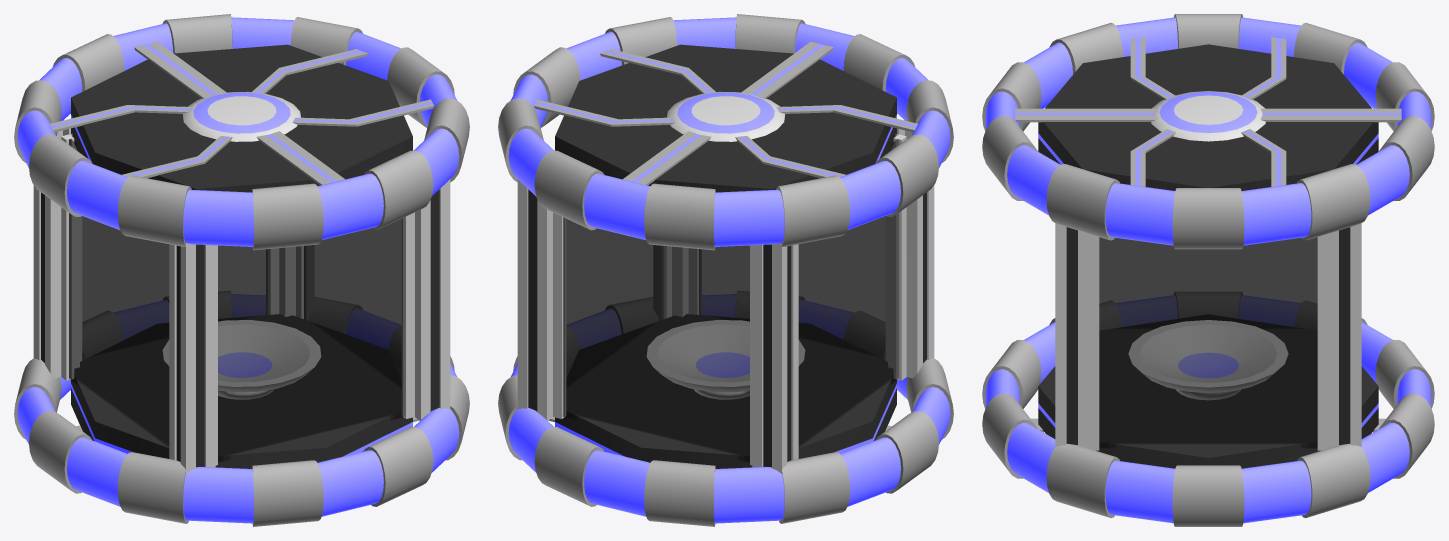
File: share box ver3.fbx
The picture shows the model from 3 angles, left to right: view 1: azimuth 30°, elevation 25°; view 2: azimuth 150°, elevation 25°; view 3: azimuth 270°, elevation 25°; orthographic projection.
Visible parts, largest first — view 1: main_ita, pTorus1, glass1, pTorus2, glass4, glass3, glass2, hashira1, hashira2, hashira4, sara2, kazari24 (+6 smaller); view 2: main_ita, pTorus1, glass3, pTorus2, glass4, glass1, glass2, hashira4, hashira3, hashira1, sara2, kazari24 (+6 smaller); view 3: main_ita, pTorus1, glass2, pTorus2, glass4, hashira2, hashira3, sara2, kazari24, kazari19, kazari32, kazari34 (+2 smaller).
Boxes of the visible parts, x1=… form: main_ita: x1=71, y1=44, x2=412, y2=468; pTorus1: x1=14, y1=14, x2=469, y2=250; glass1: x1=218, y1=217, x2=404, y2=462; pTorus2: x1=14, y1=291, x2=469, y2=526; glass4: x1=69, y1=139, x2=169, y2=446; glass3: x1=82, y1=216, x2=268, y2=359; glass2: x1=304, y1=219, x2=401, y2=386; hashira1: x1=169, y1=243, x2=217, y2=473; hashira2: x1=401, y1=179, x2=450, y2=420; hashira4: x1=33, y1=119, x2=82, y2=380; sara2: x1=162, y1=320, x2=321, y2=399; kazari24: x1=182, y1=91, x2=300, y2=141; main_ita: x1=555, y1=44, x2=896, y2=468; pTorus1: x1=498, y1=14, x2=953, y2=250; glass3: x1=563, y1=217, x2=749, y2=462; pTorus2: x1=498, y1=291, x2=953, y2=526; glass4: x1=798, y1=139, x2=898, y2=446; glass1: x1=699, y1=216, x2=885, y2=359; glass2: x1=566, y1=219, x2=663, y2=386; hashira4: x1=750, y1=243, x2=798, y2=473; hashira3: x1=517, y1=179, x2=566, y2=420; hashira1: x1=885, y1=119, x2=934, y2=380; sara2: x1=646, y1=320, x2=805, y2=399; kazari24: x1=667, y1=91, x2=785, y2=141; main_ita: x1=1038, y1=44, x2=1378, y2=468; pTorus1: x1=982, y1=14, x2=1434, y2=249; glass2: x1=1099, y1=237, x2=1317, y2=448; pTorus2: x1=982, y1=292, x2=1434, y2=526; glass4: x1=1099, y1=237, x2=1317, y2=329; hashira2: x1=1055, y1=223, x2=1099, y2=450; hashira3: x1=1317, y1=223, x2=1361, y2=450; sara2: x1=1128, y1=320, x2=1288, y2=400; kazari24: x1=1151, y1=91, x2=1265, y2=141; kazari19: x1=1015, y1=108, x2=1401, y2=122; kazari32: x1=1130, y1=37, x2=1175, y2=99; kazari34: x1=1241, y1=37, x2=1286, y2=99.
Size of the model in its own units: 13.3 by 10.91 by 13.3.
